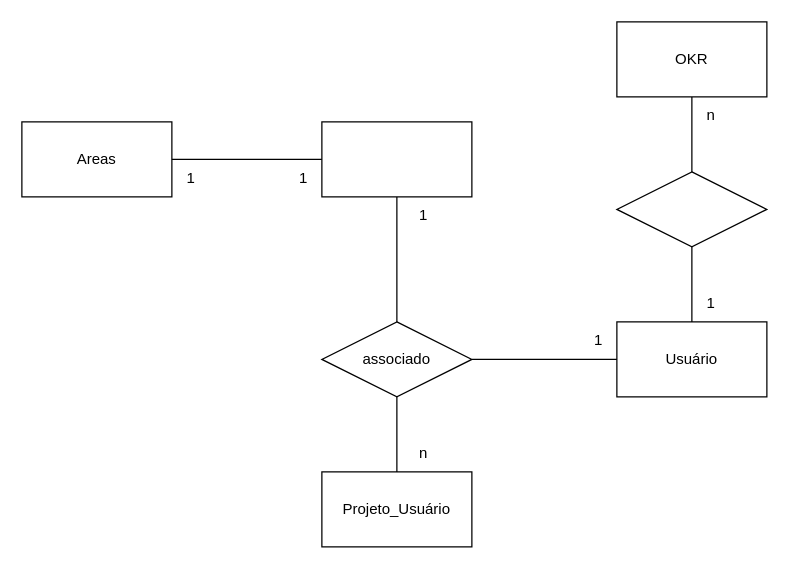
This 789x569 diagram has some shape labels left out. Each missing label, with the centre of its shape:
"Projeto" goes at point (396, 159).
"tem" goes at point (691, 209).
